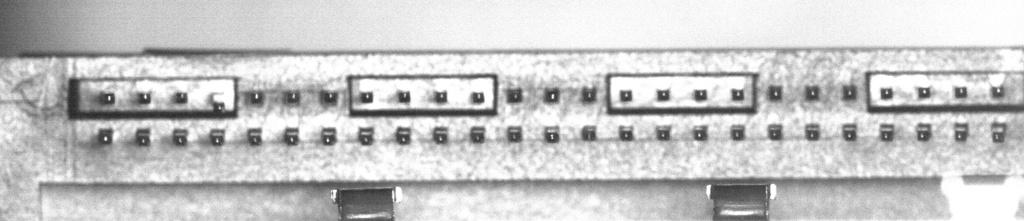pin_defect: (206, 89, 227, 116)
pin_ok: (988, 122, 1009, 146), (581, 125, 598, 144), (915, 123, 932, 141), (357, 127, 374, 144), (432, 126, 449, 143), (135, 127, 151, 145), (879, 123, 895, 141), (321, 127, 337, 145), (470, 126, 486, 143), (209, 128, 225, 145), (172, 128, 188, 145), (767, 123, 783, 140), (284, 127, 299, 145), (842, 123, 857, 141), (247, 90, 265, 105), (396, 126, 411, 144), (767, 84, 783, 100), (581, 86, 597, 102), (841, 84, 857, 100), (544, 87, 560, 103), (97, 128, 113, 144), (506, 87, 523, 102), (544, 126, 559, 143), (247, 128, 262, 145), (805, 123, 820, 140), (954, 124, 969, 141), (321, 89, 338, 104), (507, 126, 522, 142), (655, 125, 671, 140), (730, 124, 745, 140), (618, 125, 634, 140), (283, 90, 300, 104), (693, 125, 708, 140), (805, 85, 820, 100), (99, 91, 115, 104), (731, 87, 745, 101), (879, 86, 893, 100), (990, 84, 1004, 98), (359, 90, 374, 103), (656, 88, 671, 101), (173, 91, 188, 104), (471, 91, 485, 104), (954, 85, 968, 98), (917, 86, 931, 99), (619, 89, 633, 102), (397, 90, 411, 103), (434, 90, 448, 103), (137, 90, 151, 103), (694, 89, 707, 101)
